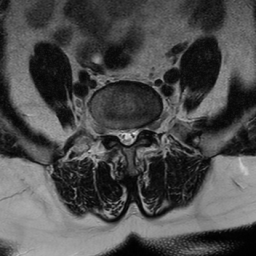CCS_normal: (124, 122, 130, 151)
LFS_stenosis: (138, 120, 146, 138)
LLS_normal: (130, 122, 138, 147)
RFS_stenosis: (108, 121, 116, 142)
RLS_normal: (116, 122, 124, 146)
